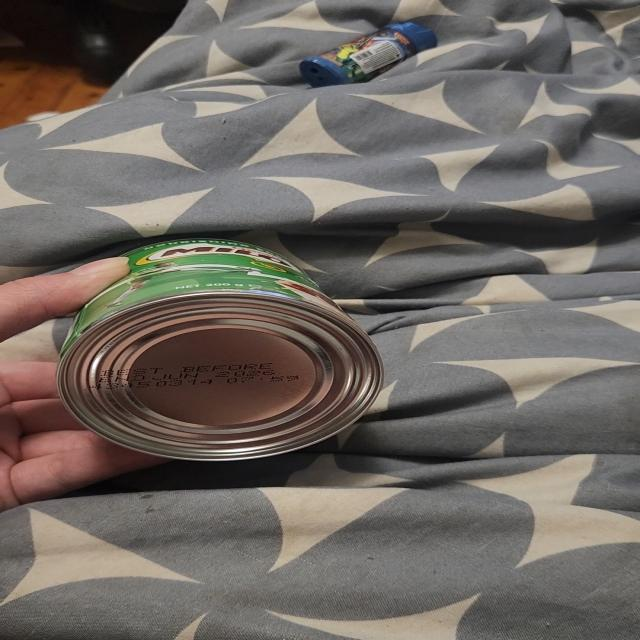nestle_milo_tin: (57, 238, 381, 461)
